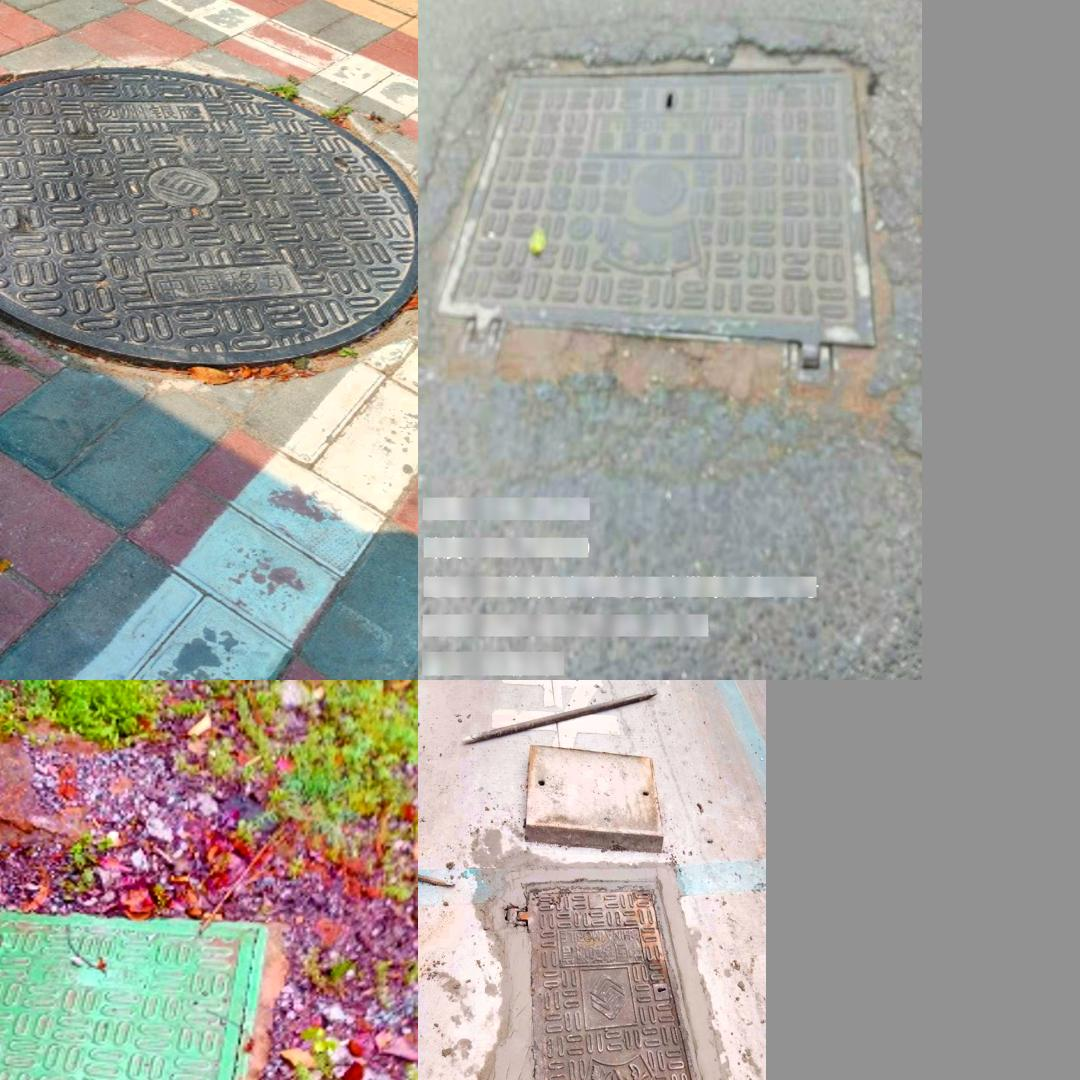good: (435, 60, 876, 380), (0, 64, 418, 363), (0, 905, 270, 1080), (507, 879, 720, 1080)
